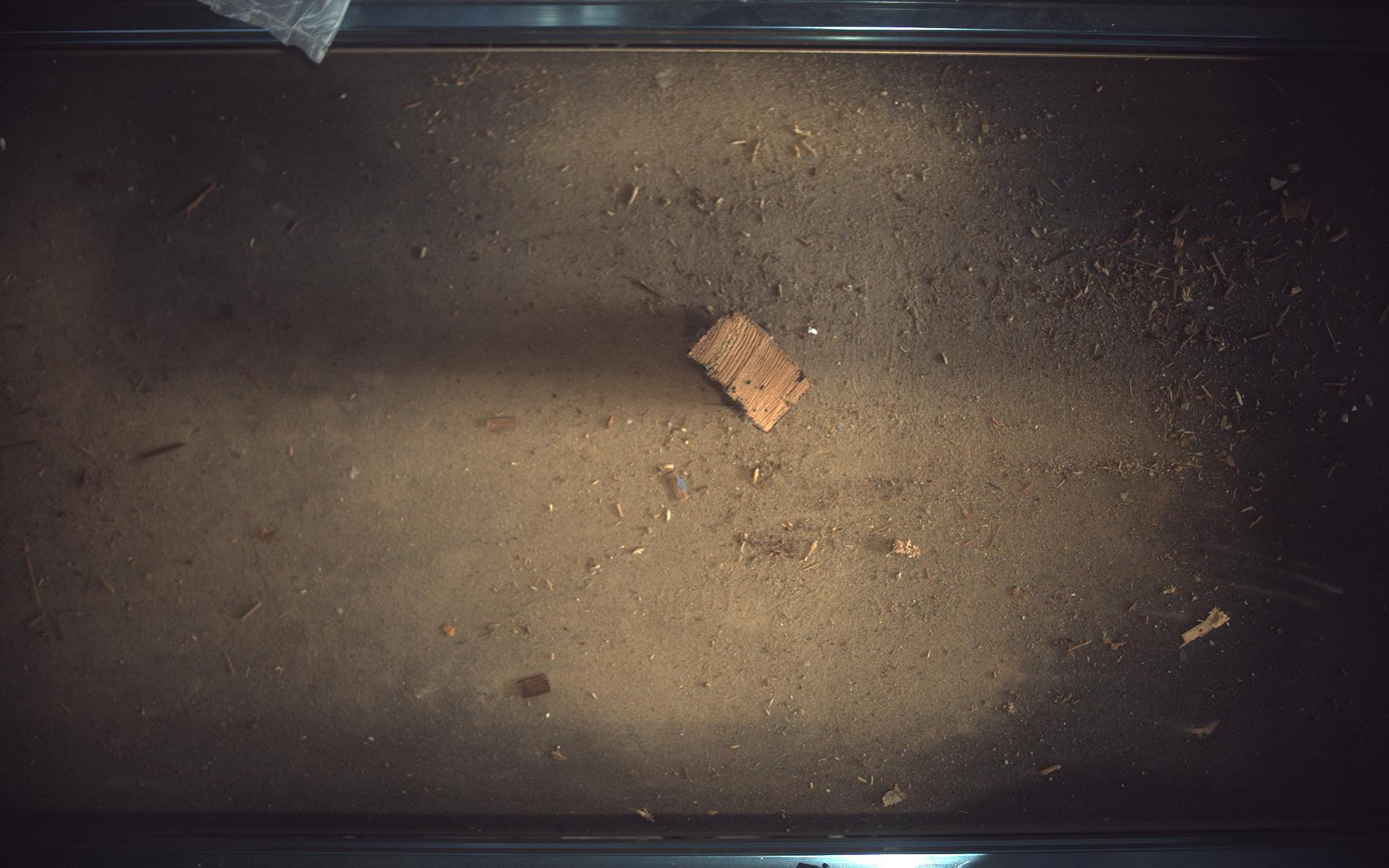wood: (689, 312, 812, 432)
